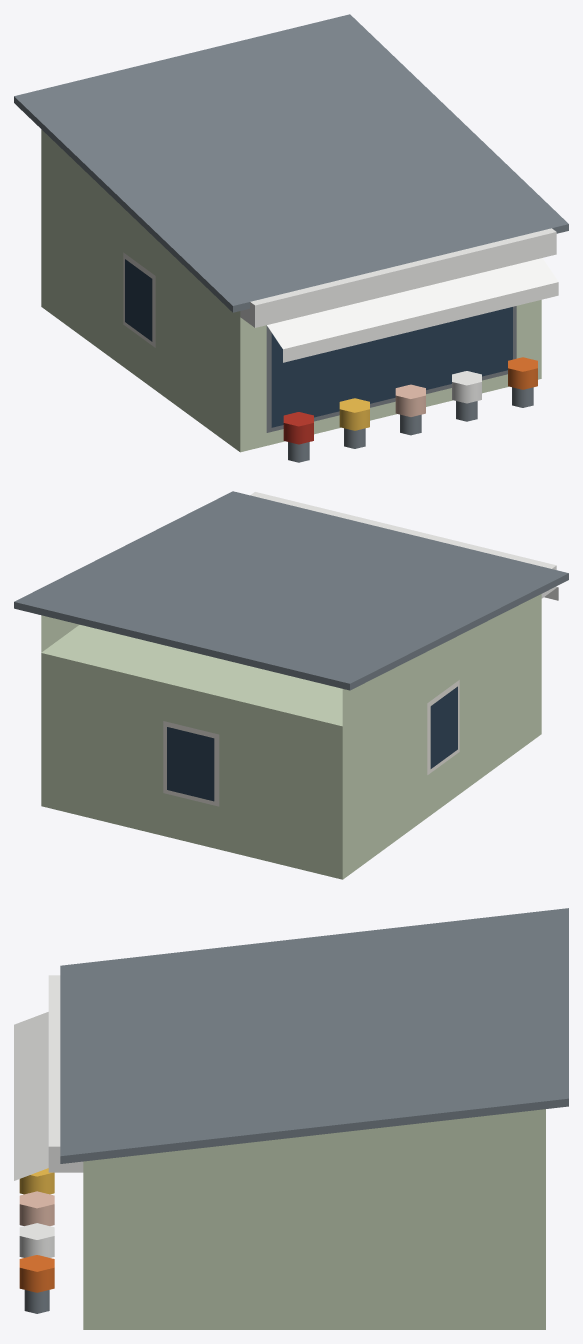
File: fleuriste.glb
3 renders of one model, top to bottom at view 1: azimuth 30°, elevation 25°; view 2: azimuth 150°, elevation 25°; view 3: azimuth 270°, elevation 25°, orthographic. The views are drawn at different scales.
Visible parts, largest first — view 1: fleuriste; view 2: fleuriste; view 3: fleuriste.
Part boxes in pixels (box(x1,y1,x2,y2)): fleuriste: box(14, 14, 568, 462); fleuriste: box(14, 491, 568, 879); fleuriste: box(14, 908, 568, 1329).
Size of the model in its own units: 7.8 by 4.6 by 9.6.
1 material, 1 textured.
